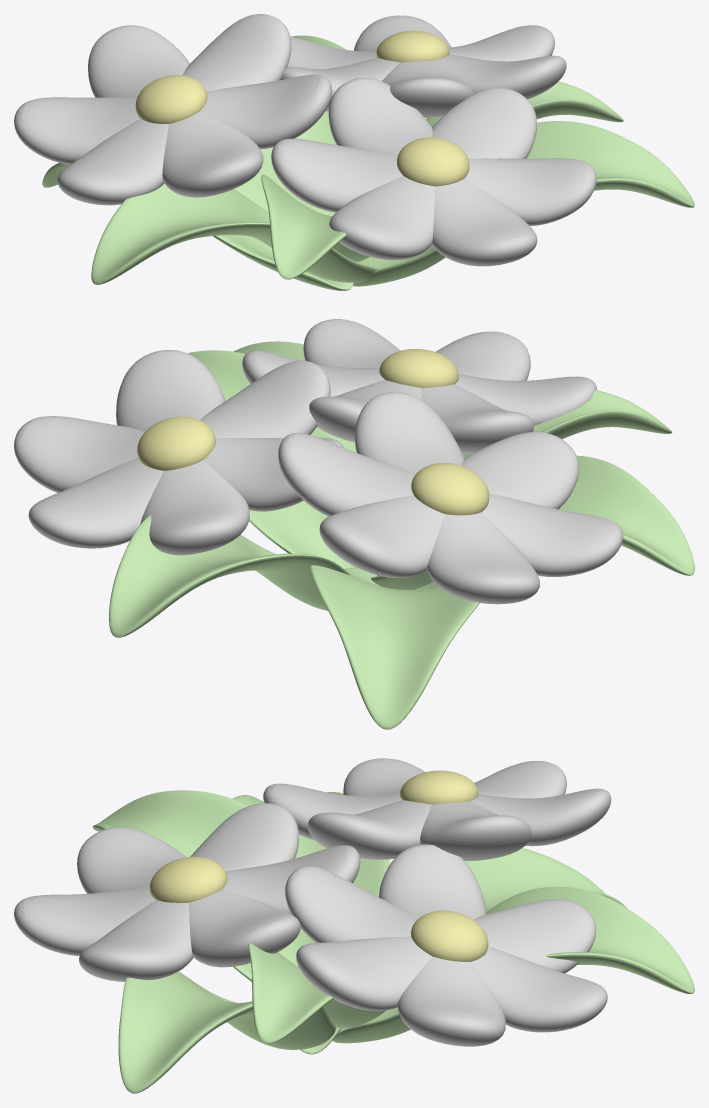
Rendered from Margaritas.fbx.
The picture shows the model from 3 angles, top to bottom: view 1: azimuth 30°, elevation 25°; view 2: azimuth 150°, elevation 25°; view 3: azimuth 270°, elevation 25°; orthographic projection. The views are drawn at different scales.
Parts seen in each view (by area): view 1: Plane.015; view 2: Plane.015; view 3: Plane.015.
Boxes of the visible parts, x1,y1,x2,y2 form: Plane.015: [14, 14, 694, 290]; Plane.015: [14, 319, 694, 729]; Plane.015: [14, 758, 694, 1093].
Bounding box in the file's own units: 150 × 55.55 × 153.
